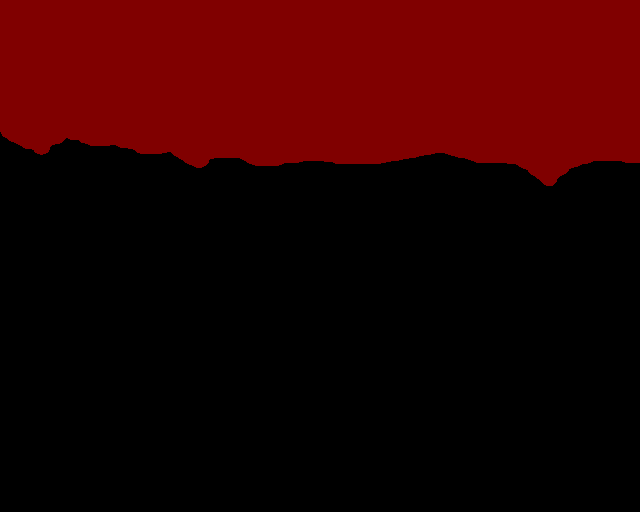Sky: (1, 1, 639, 186)
